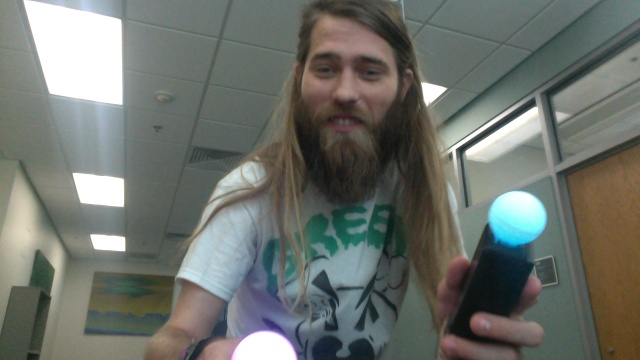wand: (489, 192, 546, 247), (231, 331, 298, 360)
